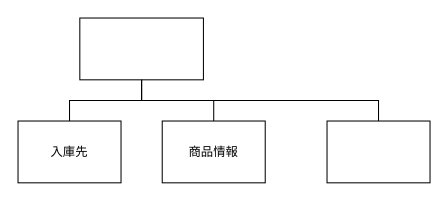
Image size: 448x201. Some labels were removed from this diagram. Here are the shapes that lost their labels. From the top down, the centre of each, then its label:
At (x=141, y=48): "入荷管理".
At (x=378, y=151): "日付・日程".
